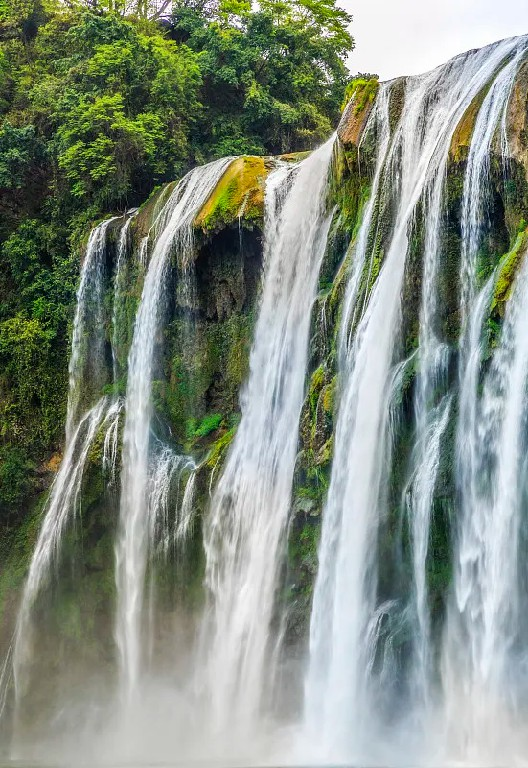Huangguoshu: (15, 36, 528, 717)
